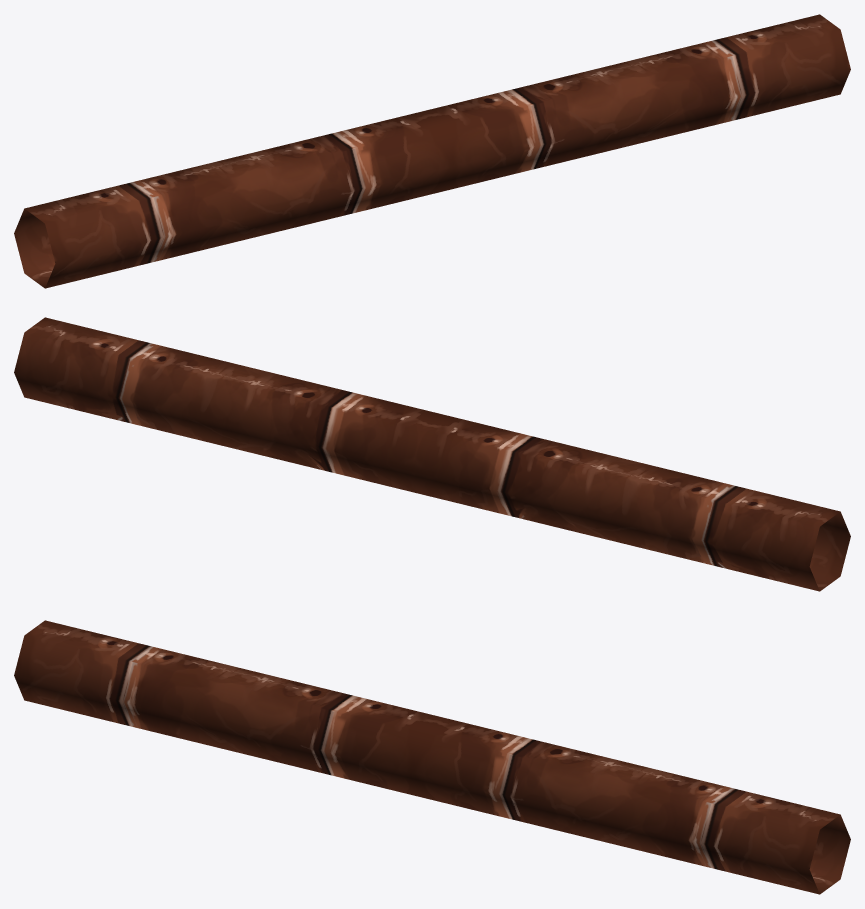
The model's file is metalPipe_02.fbx.
3 renders of one model, top to bottom at view 1: azimuth 30°, elevation 25°; view 2: azimuth 150°, elevation 25°; view 3: azimuth 330°, elevation 25°, orthographic.
Visible parts, largest first — view 1: metalPipe_02; view 2: metalPipe_02; view 3: metalPipe_02.
Part boxes in pixels (bbox=[...]): metalPipe_02: bbox=[14, 14, 850, 288]; metalPipe_02: bbox=[14, 317, 850, 591]; metalPipe_02: bbox=[14, 620, 850, 894].
Bounding box in the file's own units: 6 × 0.468 × 0.5403.
